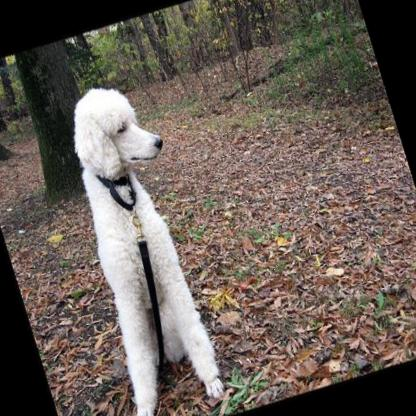standard_poodle: (32, 67, 241, 416)
